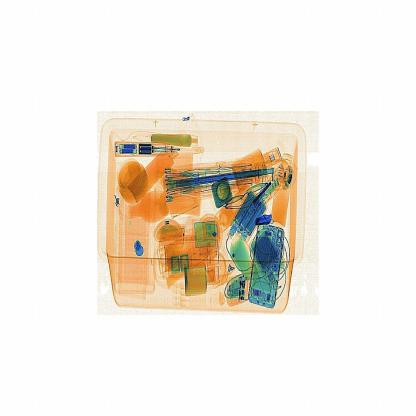knife: (252, 204, 279, 231)
